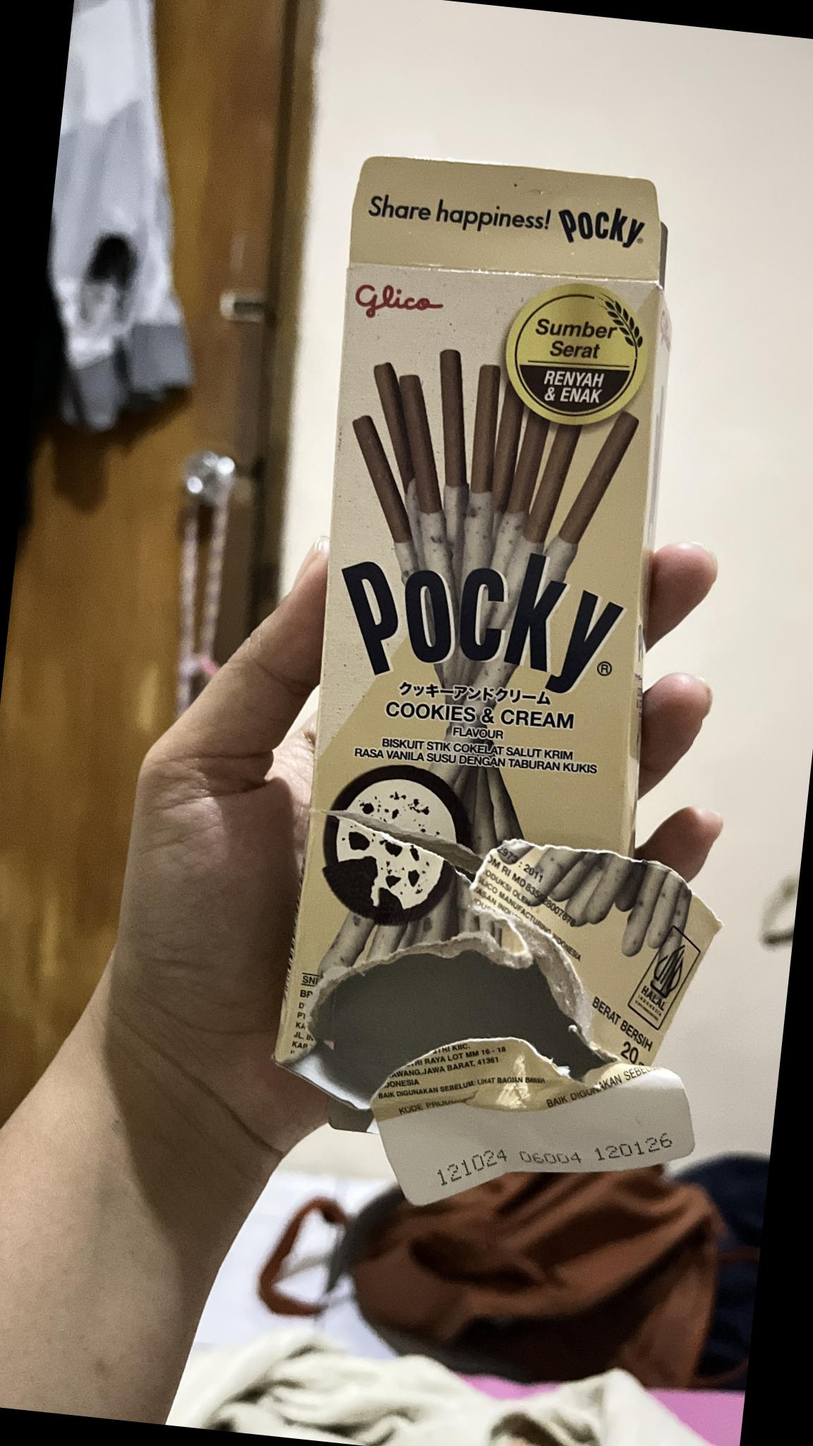Kertas: (276, 261, 653, 1057)
